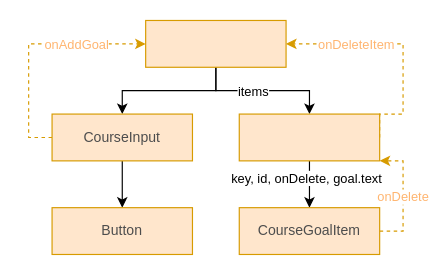
Image size: 448x275. Some labels were removed from this diagram. The box of each missing label's shape, as (x1, y1, x2, y2) in pixels:
App.js: (144, 19, 286, 67)
CourseGoalList: (238, 113, 380, 161)
